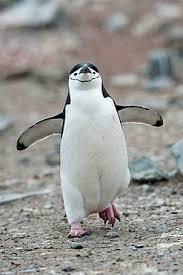chinstrap: (2, 50, 178, 262)
